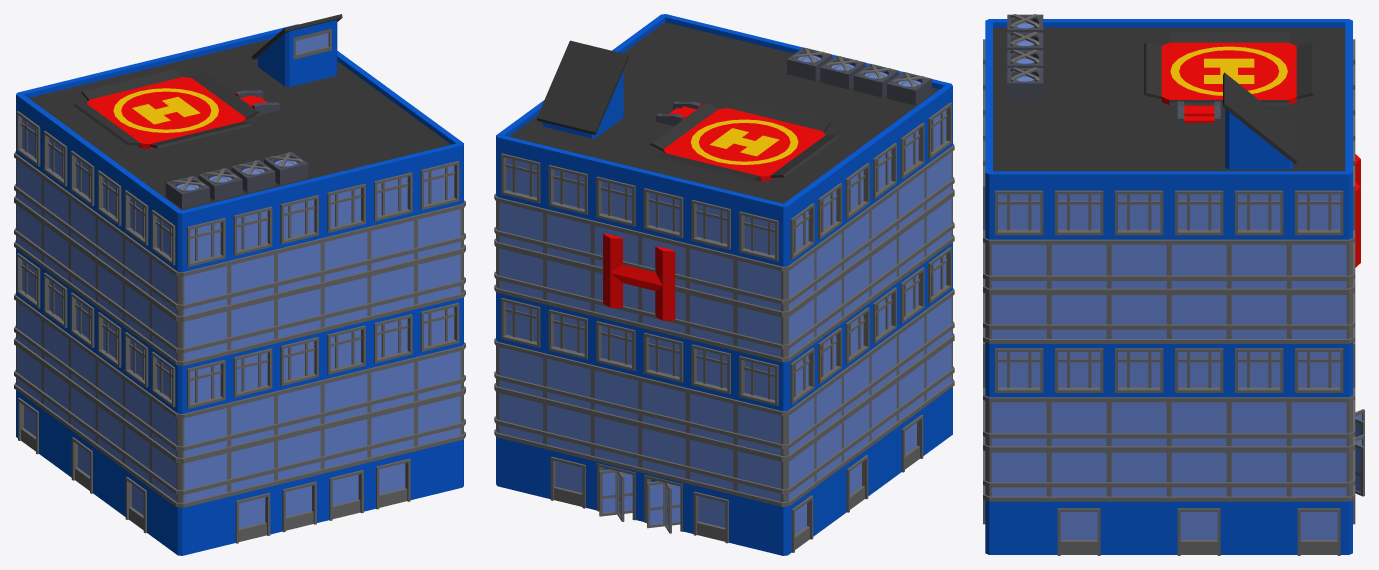
Rendered from Building 08.fbx.
3 renders of one model, left to right at view 1: azimuth 30°, elevation 25°; view 2: azimuth 150°, elevation 25°; view 3: azimuth 270°, elevation 25°, orthographic. The views are drawn at different scales.
Visible parts, largest first — view 1: roof_helipad_551, roof_factorySlant_550, wall_skyscraperGlassDivider%_381, wall_skyscraperGlassDivider%_476, wall_skyscraperGlassDivider%_477, wall_windowLarge_502, wall_windowLarge_429, wall_straight_352, wall_skyscraperGlassDivider%_399, wall_skyscraperGlassDivider%_376, wall_skyscraperGlassDivider%_470, wall_skyscraperGlassDivider%_378 (+107 smaller); view 2: roof_helipad_551, roof_factorySlant_550, wall_skyscraperGlassDivider%_372, wall_skyscraperGlassDivider%_447, wall_skyscraperGlassDivider%_448, wall_windowLarge_422, wall_skyscraperGlassDivider%_453, wall_skyscraperGlassDivider%_374, wall_windowLarge_490, wall_windowLarge_509, wall_windowLarge_512, wall_skyscraperGlassDivider%_370 (+107 smaller); view 3: roof_helipad_551, roof_factorySlant_550, wall_windowLarge_496, wall_skyscraperGlassDivider%_464, wall_straight_346, wall_skyscraperGlassDivider%_387, wall_skyscraperGlassDivider%_465, wall_windowStore_329, wall_skyscraperGlassDivider%_454, wall_skyscraperGlassDivider%_382, wall_skyscraperGlassDivider%_386, wall_skyscraperGlassDivider%_384 (+68 smaller).
Boxes of the visible parts, x1,y1,x2,y2 form: roof_helipad_551: [73, 68, 259, 148]; roof_factorySlant_550: [252, 14, 342, 86]; wall_skyscraperGlassDivider%_381: [176, 446, 230, 507]; wall_skyscraperGlassDivider%_476: [176, 260, 230, 321]; wall_skyscraperGlassDivider%_477: [176, 305, 230, 365]; wall_windowLarge_502: [177, 212, 228, 272]; wall_windowLarge_429: [177, 355, 228, 413]; wall_straight_352: [177, 497, 228, 555]; wall_skyscraperGlassDivider%_399: [176, 403, 230, 463]; wall_skyscraperGlassDivider%_376: [414, 387, 465, 450]; wall_skyscraperGlassDivider%_470: [321, 270, 370, 331]; wall_skyscraperGlassDivider%_378: [321, 413, 370, 473]; roof_helipad_551: [649, 99, 839, 181]; roof_factorySlant_550: [536, 40, 628, 138]; wall_skyscraperGlassDivider%_372: [734, 444, 789, 506]; wall_skyscraperGlassDivider%_447: [734, 255, 789, 317]; wall_skyscraperGlassDivider%_448: [734, 300, 789, 362]; wall_windowLarge_422: [735, 351, 787, 411]; wall_skyscraperGlassDivider%_453: [494, 239, 546, 304]; wall_skyscraperGlassDivider%_374: [494, 384, 545, 448]; wall_windowLarge_490: [496, 145, 544, 208]; wall_windowLarge_509: [735, 205, 783, 266]; wall_windowLarge_512: [592, 170, 640, 231]; wall_skyscraperGlassDivider%_370: [591, 409, 641, 471]; roof_helipad_551: [1144, 32, 1314, 105]; roof_factorySlant_550: [1223, 72, 1296, 169]; wall_windowLarge_496: [985, 183, 1049, 239]; wall_skyscraperGlassDivider%_464: [983, 237, 1049, 294]; wall_straight_346: [985, 500, 1049, 554]; wall_skyscraperGlassDivider%_387: [1287, 444, 1355, 501]; wall_skyscraperGlassDivider%_465: [983, 286, 1050, 343]; wall_windowStore_329: [1289, 500, 1352, 555]; wall_skyscraperGlassDivider%_454: [1287, 286, 1354, 343]; wall_skyscraperGlassDivider%_382: [983, 444, 1050, 501]; wall_skyscraperGlassDivider%_386: [1227, 446, 1290, 501]; wall_skyscraperGlassDivider%_384: [1107, 446, 1170, 501].
Bounding box in the file's own units: 62.05 × 81.43 × 63.66.
